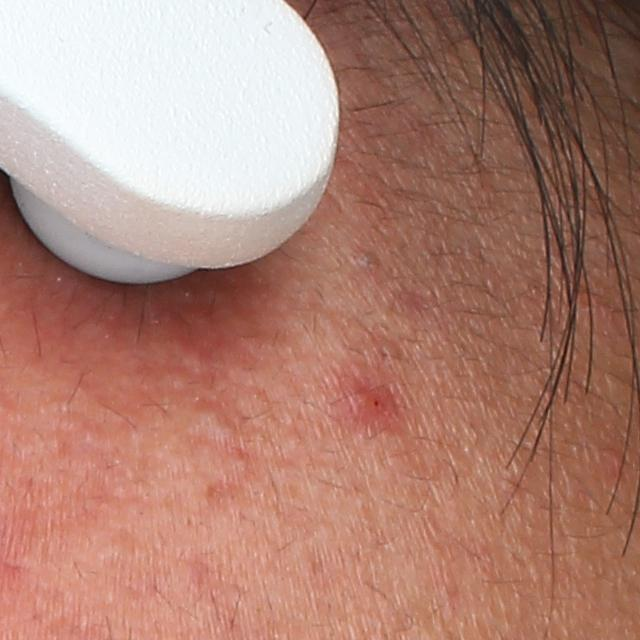papule: (336, 370, 407, 437)
